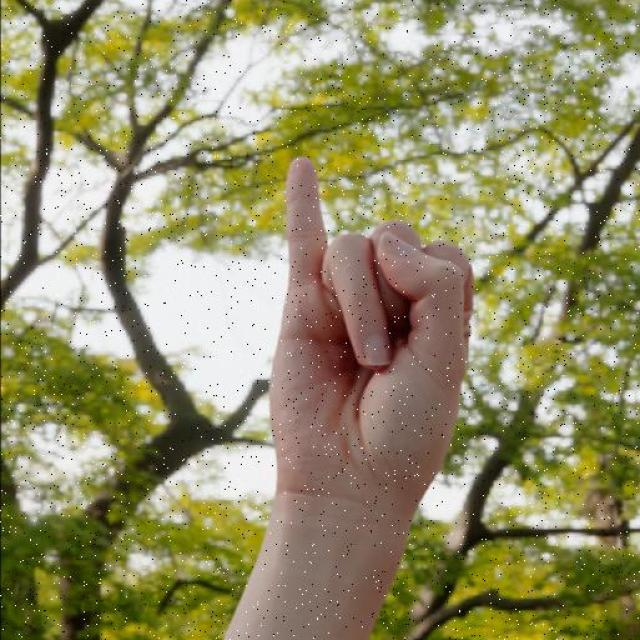I: (197, 121, 518, 640)
